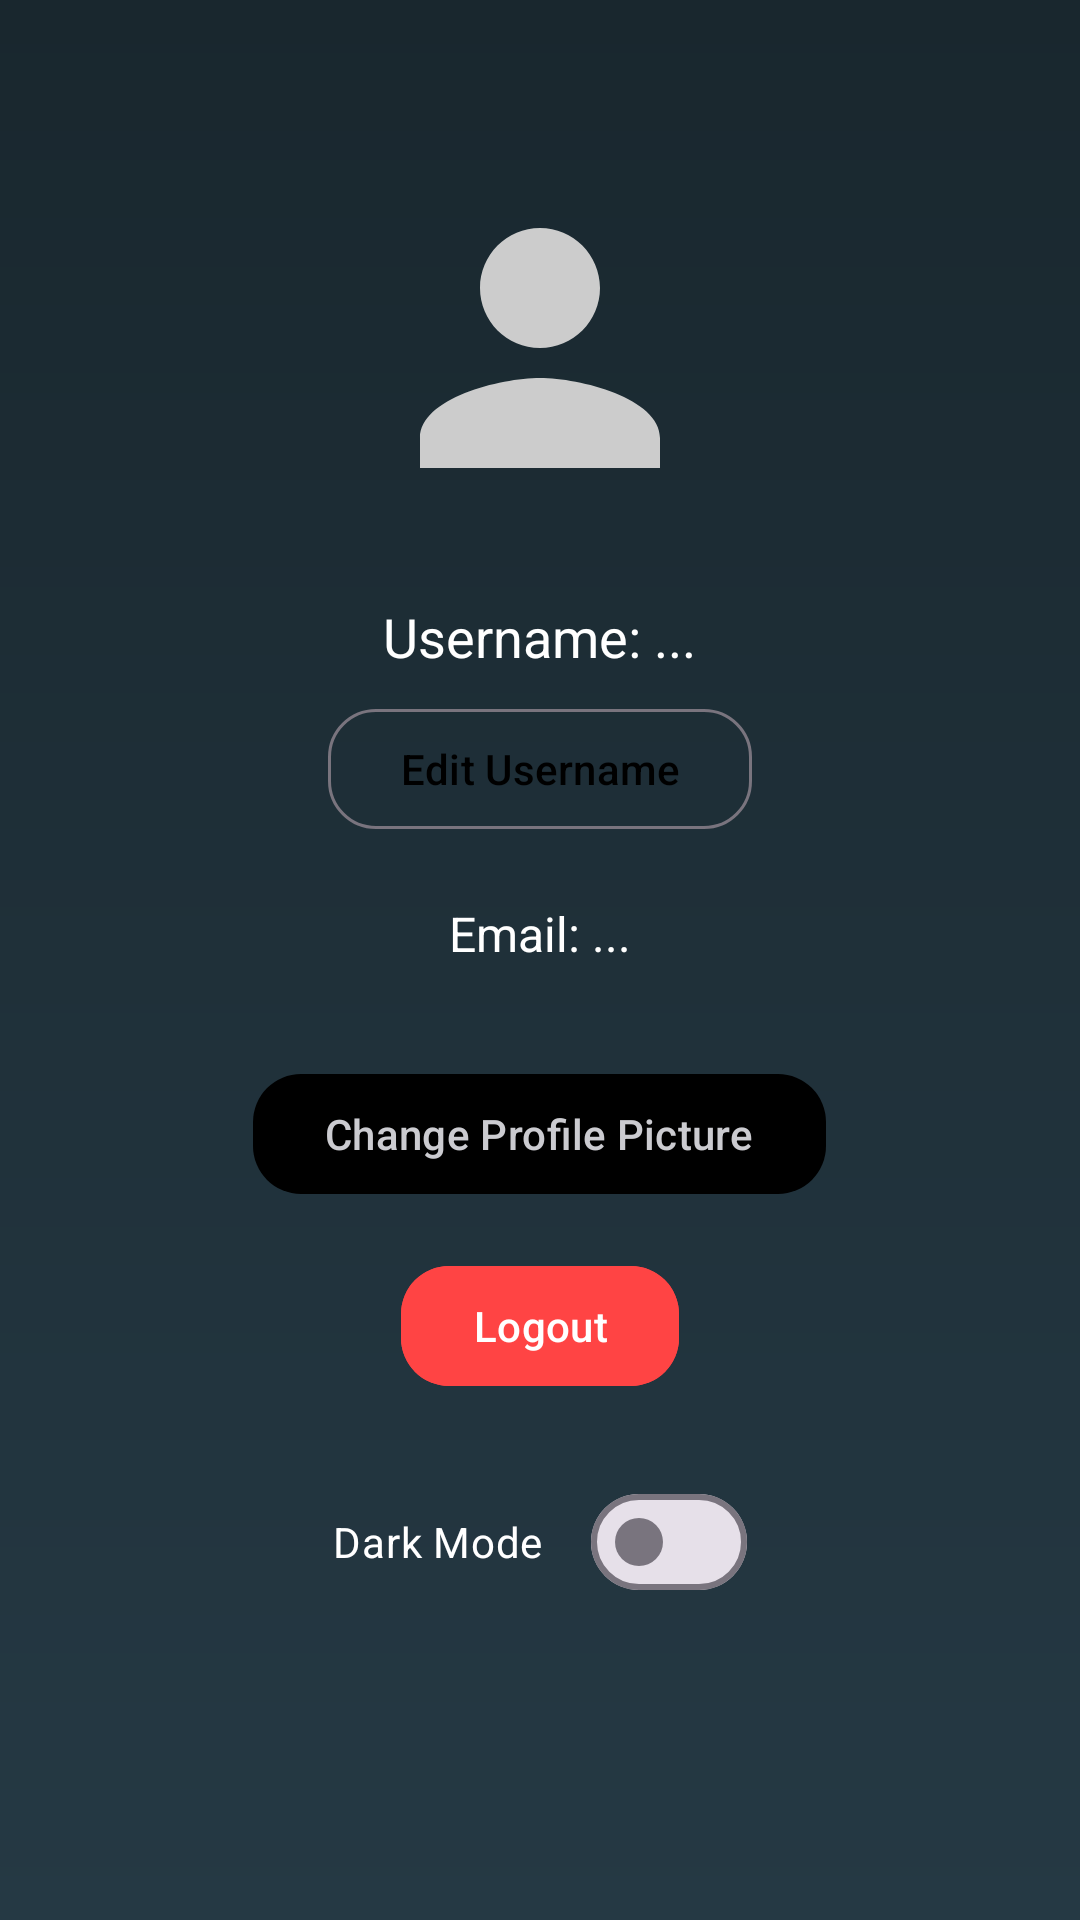

Named icons in this screenshot (1080x1920) and their centers, (x=x, y=y):
Profile picture: (x=540, y=348)
